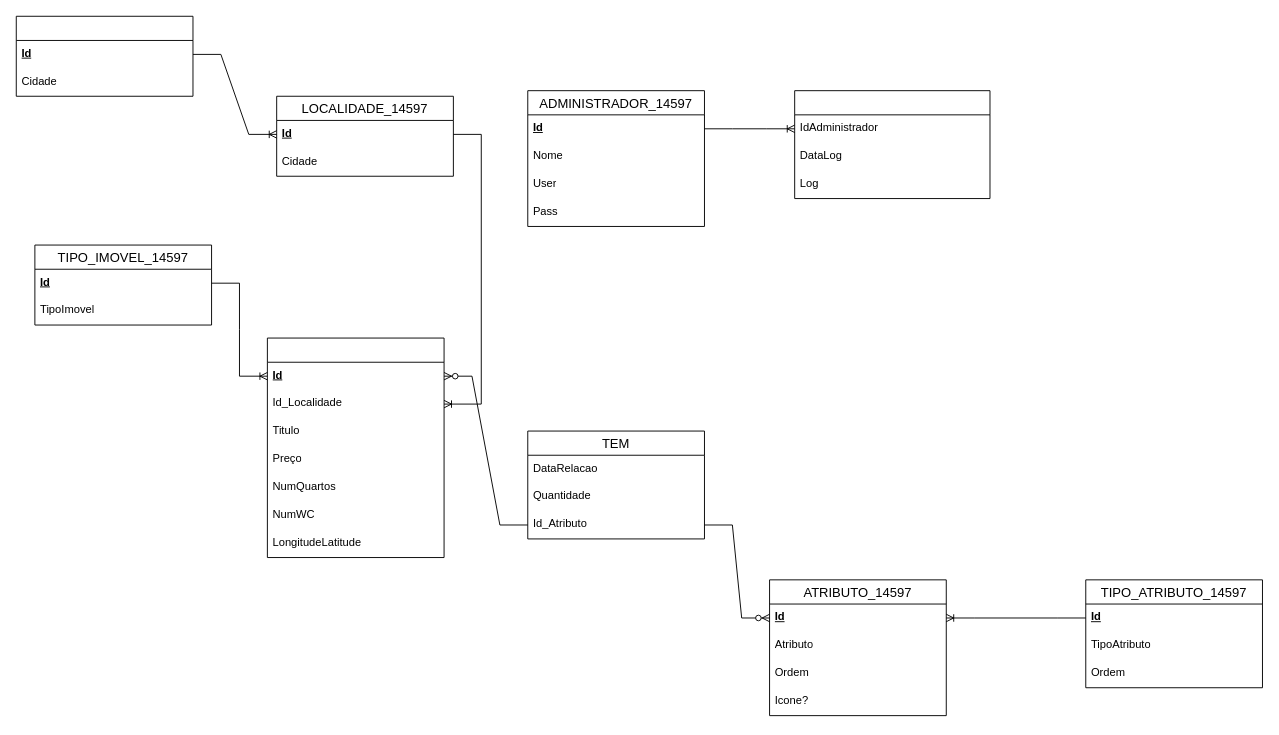
Some shapes in this 1279 by 735 pixel diagram are drawn without their labels. The shapes that lost their labels are listed below. From the top down, each one's box as (x1, y1, x2, y2) in pixels, then its label:
(15, 15, 193, 96): CIDADE_14597
(794, 90, 990, 199): ADMINSTRADOR_LOG_14597
(266, 337, 444, 558): IMOVEL_14597
